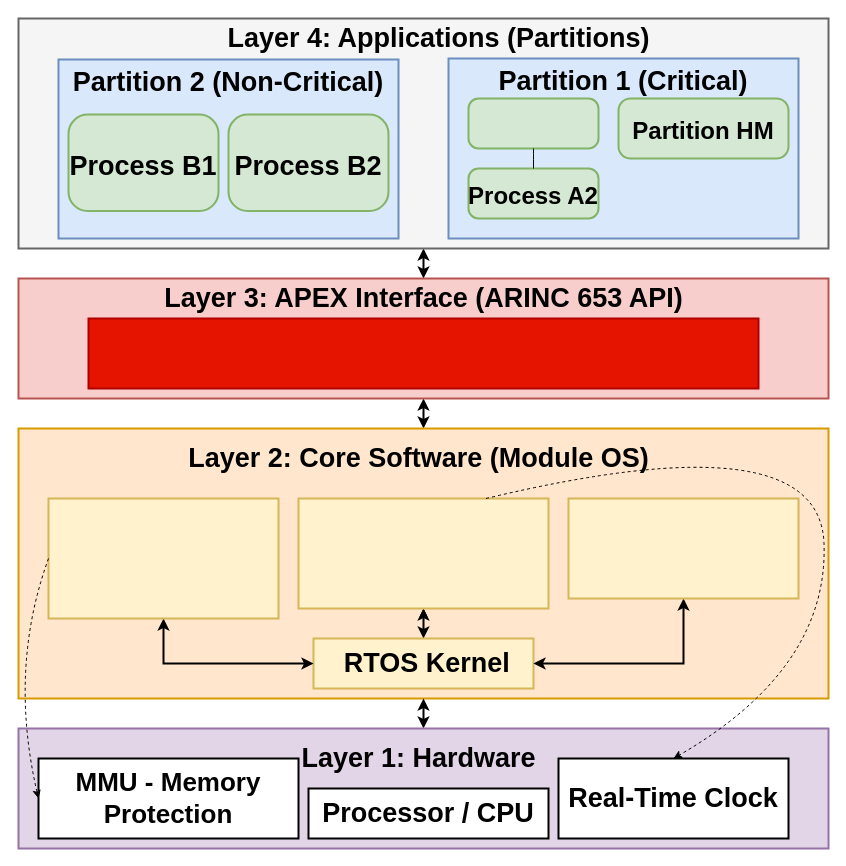
The diagram is 846 pixels wide and 866 high, and some of its shapes have lost their labels. The shapes that lost their labels are listed below. From the top down, each one's centre as x and y in pixels, then its label:
At (533,123): "Process A1".
At (423,353): "APEX Services (Communication, Process, Time, Memory)".
At (163,558): "Memory Manager (Space Partitioning)".
At (423,553): "Partition Scheduler (Time Partitioning)".
At (683,548): "Health Monitor (HM)".
